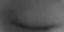RightEyeFatigue: (7, 12, 64, 31)
